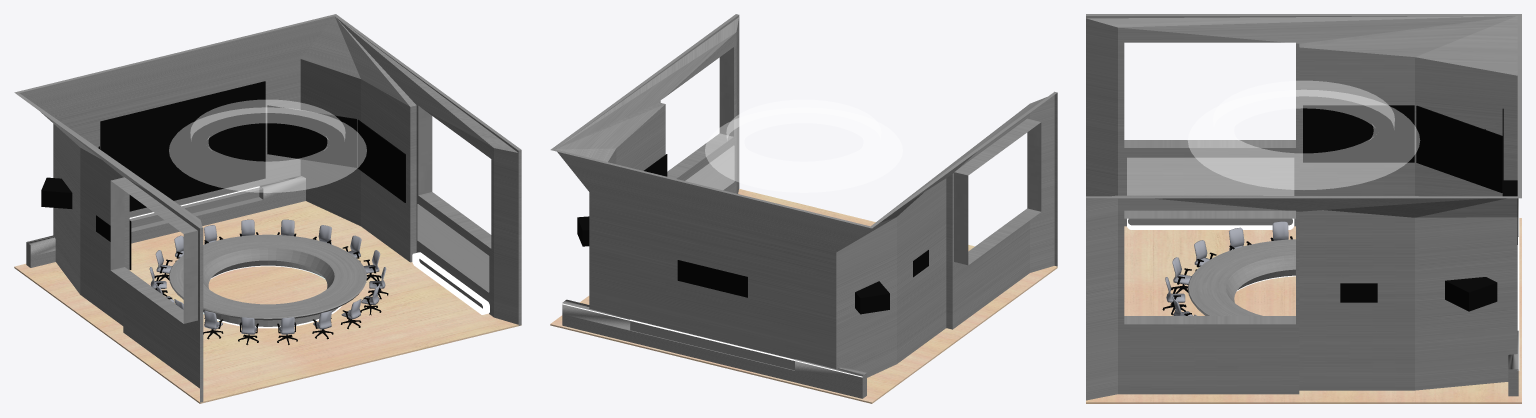
File: VirtualWarRoom.glb
The picture shows the model from 3 angles, left to right: view 1: azimuth 30°, elevation 25°; view 2: azimuth 150°, elevation 25°; view 3: azimuth 270°, elevation 25°; orthographic projection. The views are drawn at different scales.
Visible parts, largest first — view 1: Wall, Floor, Screen, RoundLamp, RoundTable, Chair, Screen_R1, TVStand, ScreenBoard_Glass_R, Screen_R2, Bench_R, Screen_L1_Hanger; view 2: Wall, RoundLamp, TVStand, Floor, Screen_Hanger, ScreenBoard_Glass_R, Screen_L1_Hanger, TVStandGLow; view 3: Wall, RoundLamp, Floor, Screen_L2, ScreenBoard_Glass_L, Screen_L1, RoundTable, Chair, Screen_R1_Hanger, Bench_L, Screen_R2_Hanger, TVStand (+1 smaller).
Boxes of the visible parts, <box> form: Wall: <box>14,14,521,403</box>; Floor: <box>14,201,521,403</box>; Screen: <box>100,81,265,211</box>; RoundLamp: <box>169,100,366,192</box>; RoundTable: <box>169,234,366,326</box>; Chair: <box>149,219,388,344</box>; Screen_R1: <box>267,105,356,167</box>; TVStand: <box>26,175,305,267</box>; ScreenBoard_Glass_R: <box>417,204,488,292</box>; Screen_R2: <box>357,119,405,202</box>; Bench_R: <box>412,252,489,314</box>; Screen_L1_Hanger: <box>41,177,72,208</box>; Wall: <box>550,14,1057,377</box>; RoundLamp: <box>705,100,902,192</box>; TVStand: <box>562,299,866,398</box>; Floor: <box>550,189,1057,403</box>; Screen_Hanger: <box>677,260,747,297</box>; ScreenBoard_Glass_R: <box>686,146,734,189</box>; Screen_L1_Hanger: <box>855,281,889,314</box>; TVStandGLow: <box>562,303,862,377</box>; Wall: <box>1086,14,1521,400</box>; RoundLamp: <box>1188,81,1419,189</box>; Floor: <box>1086,218,1521,403</box>; Screen_L2: <box>1303,105,1414,162</box>; ScreenBoard_Glass_L: <box>1127,158,1293,195</box>; Screen_L1: <box>1416,105,1502,192</box>; RoundTable: <box>1187,239,1295,315</box>; Chair: <box>1162,221,1292,315</box>; Screen_R1_Hanger: <box>1445,277,1497,311</box>; Bench_L: <box>1127,218,1294,229</box>; Screen_R2_Hanger: <box>1340,283,1377,302</box>; TVStand: <box>1508,198,1518,396</box>.
Bounding box in the file's own units: 15 × 7.81 × 15.
9 materials, 2 textured.
